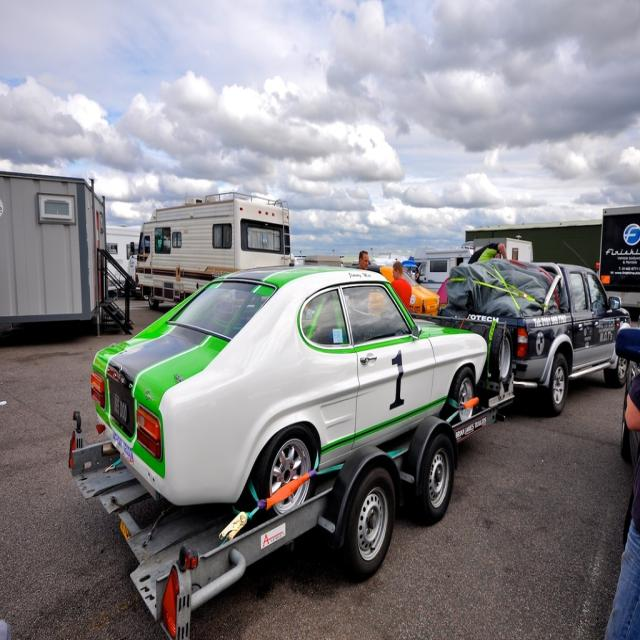car: (90, 261, 489, 521)
